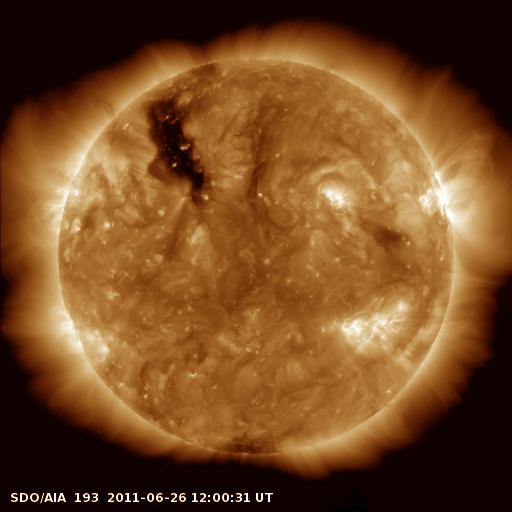coronal_hole: (142, 96, 223, 212)
